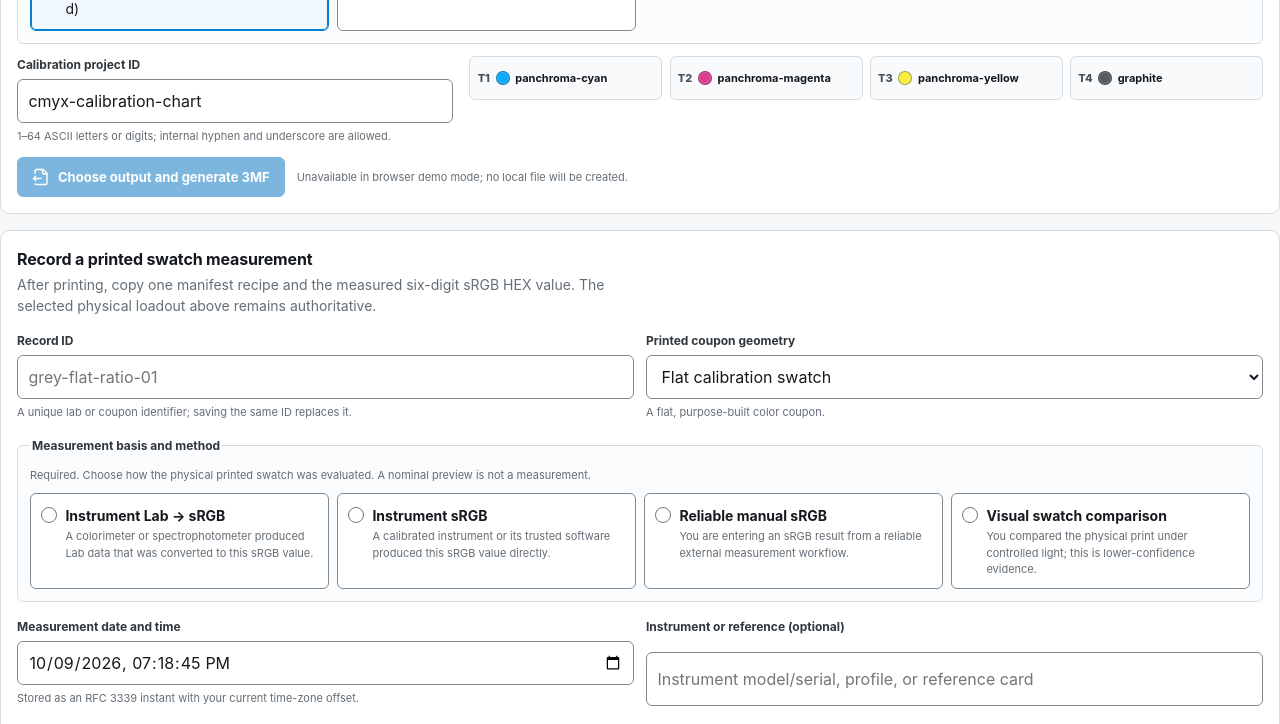
ColorCalibration › submits only measurement input for the exact loadout and recipe
The width and height of the screenshot is (1280, 724).
(page scrolled)
Type "grey-coupon-02" into the field labelled "Record ID" at point(326, 377), box [17,355,634,399]
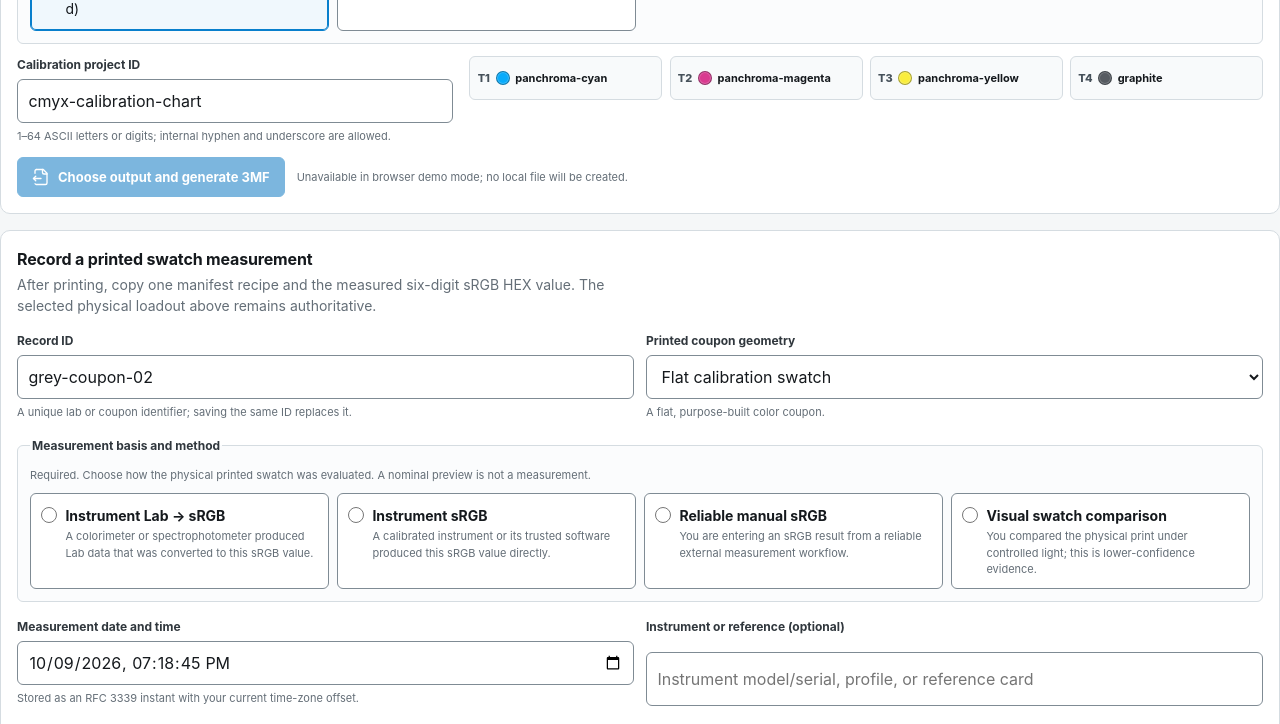
Replace the text in the field labelled "Measurement date and time" with "2026-08-01T11:30:00" at point(326, 663), box [17,641,634,685]
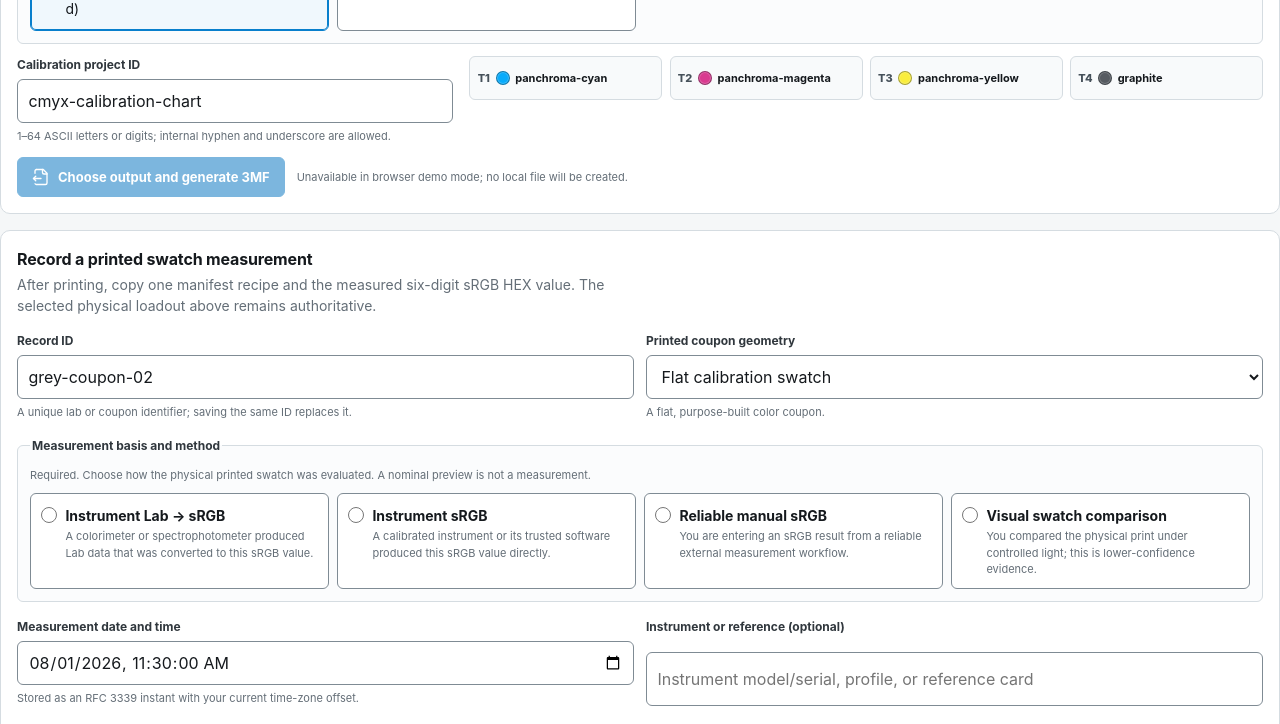
Click the radio button labelled "Instrument sRGB" at point(356, 515), box [348,507,364,523]
(page scrolled)
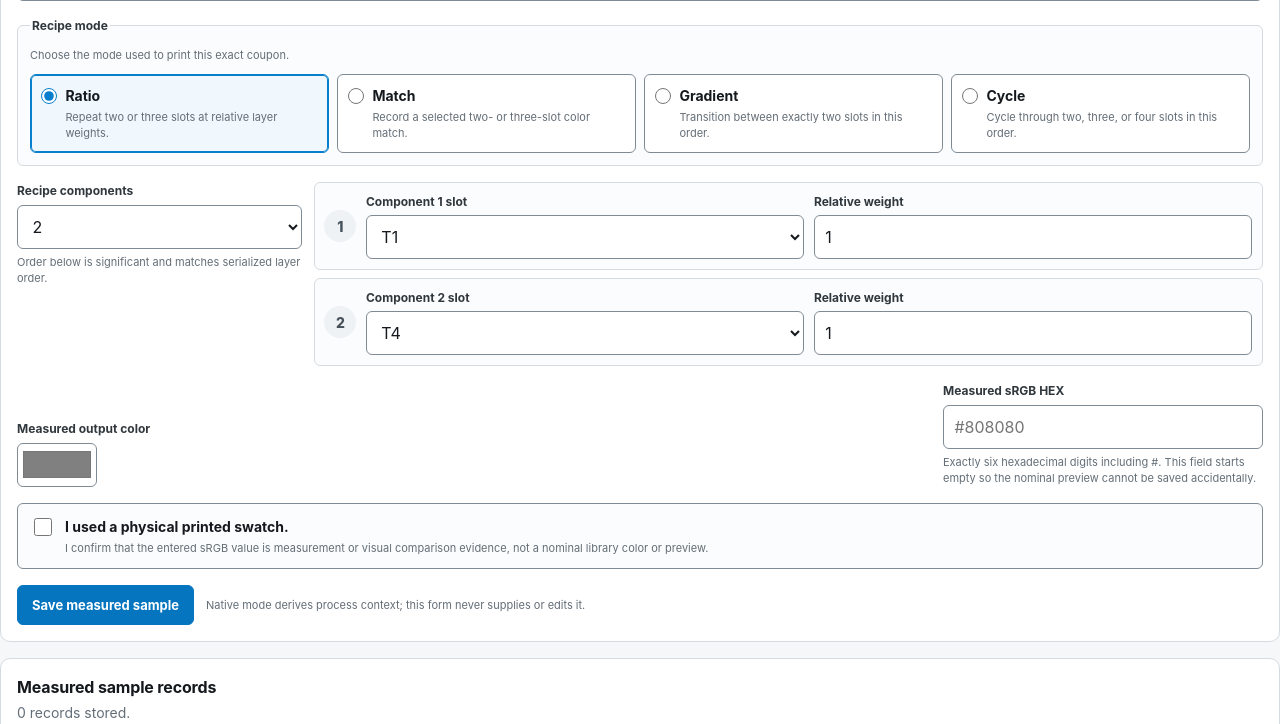
Type "#A0A1A2" into the field labelled "Measured sRGB HEX" at point(1103, 427), box [943,405,1263,449]
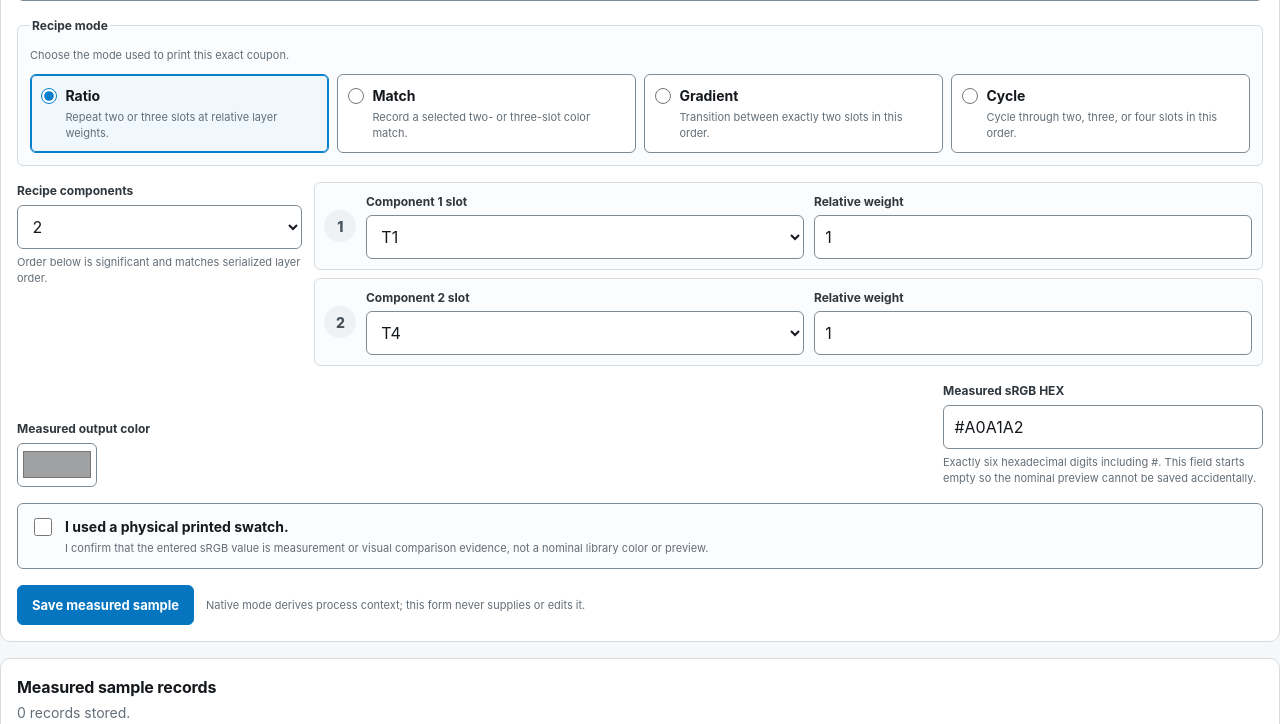
Click the checkbox labelled "I used a physical printed swatch" at point(43, 527), box [34,518,52,536]
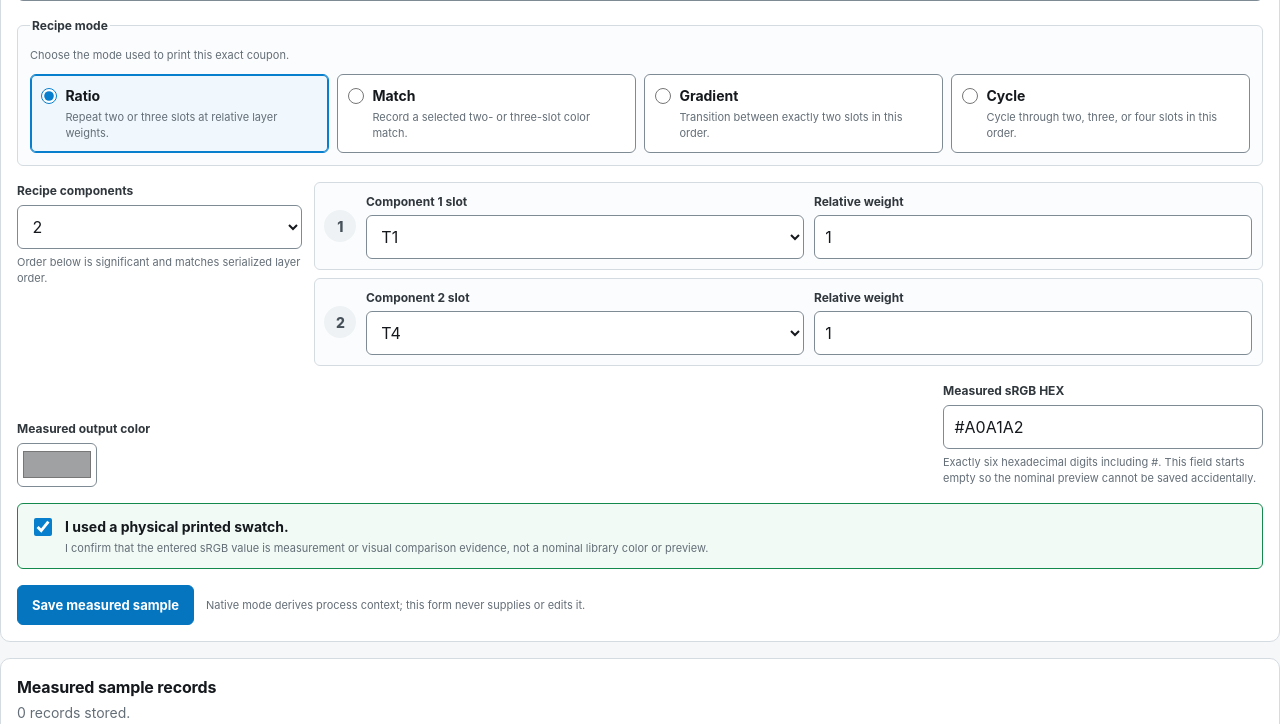
Click the button "Save measured sample" at point(106, 605), box [17,585,194,625]
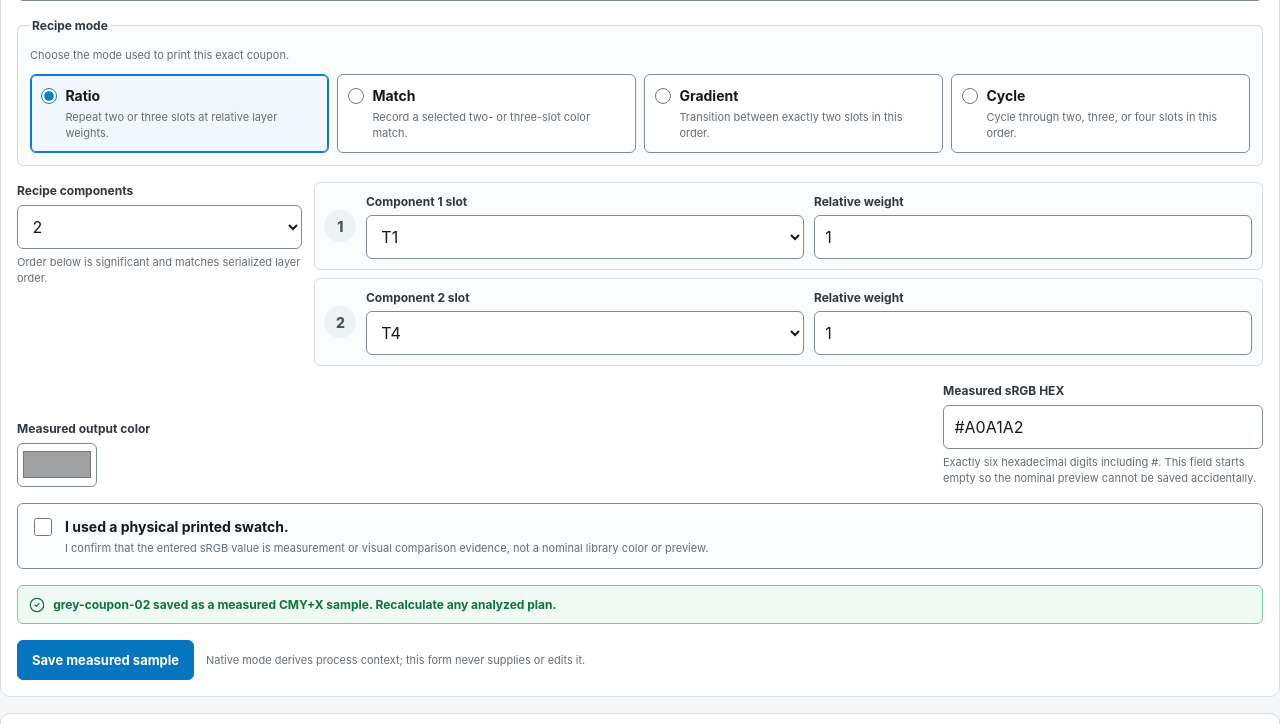
Expected: the text "saved as a measured CMY+X sample" is shown, [53,597,556,612]
